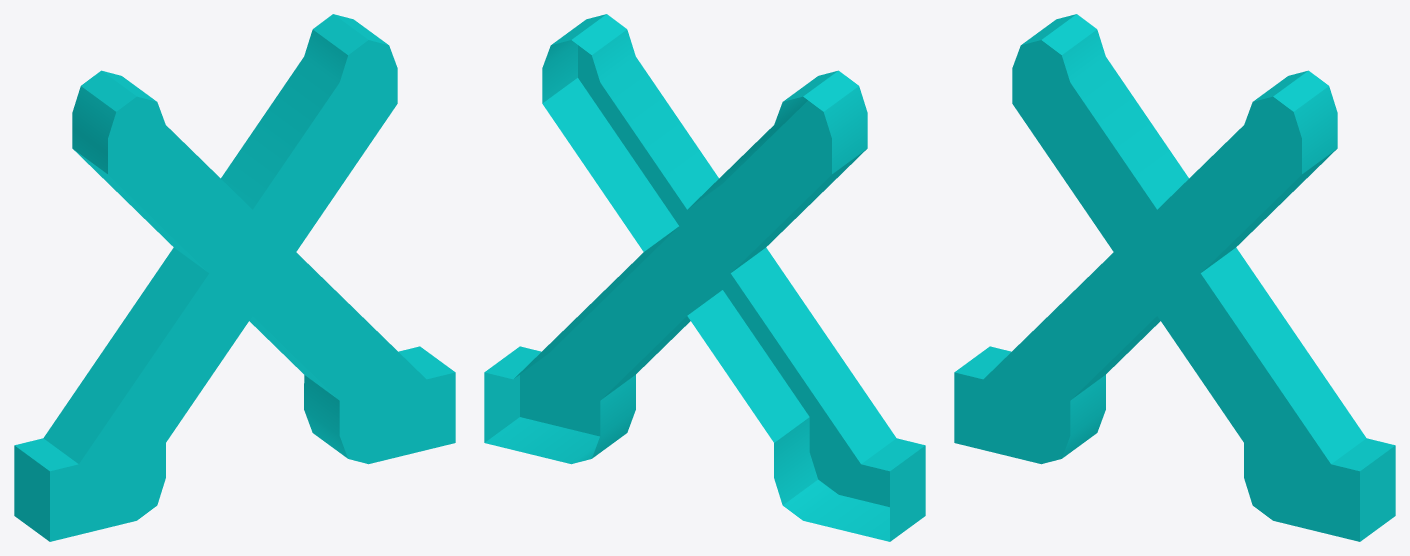
Rendered from X_Blue.glb.
3 renders of one model, left to right at view 1: azimuth 30°, elevation 25°; view 2: azimuth 150°, elevation 25°; view 3: azimuth 330°, elevation 25°, orthographic.
Visible parts, largest first — view 1: X; view 2: X; view 3: X.
Boxes of the visible parts, x1=… form: X: x1=14, y1=14, x2=455, y2=541; X: x1=484, y1=14, x2=925, y2=541; X: x1=954, y1=14, x2=1395, y2=541.
Bounding box in the file's own units: 0.5002 × 0.4998 × 0.0759.
1 material, 1 textured.
